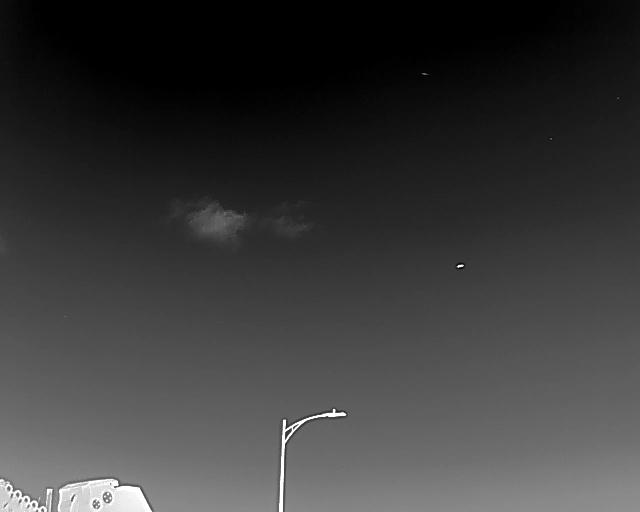fpv-drone: (456, 262, 464, 268)
